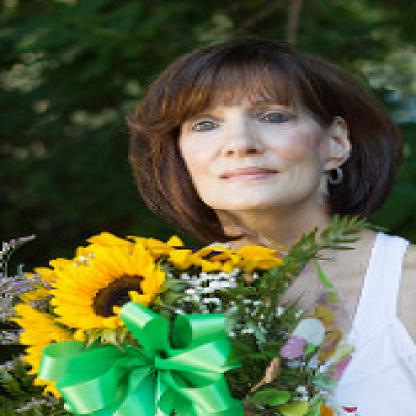SUN FLOWER: (8, 182, 341, 416)
